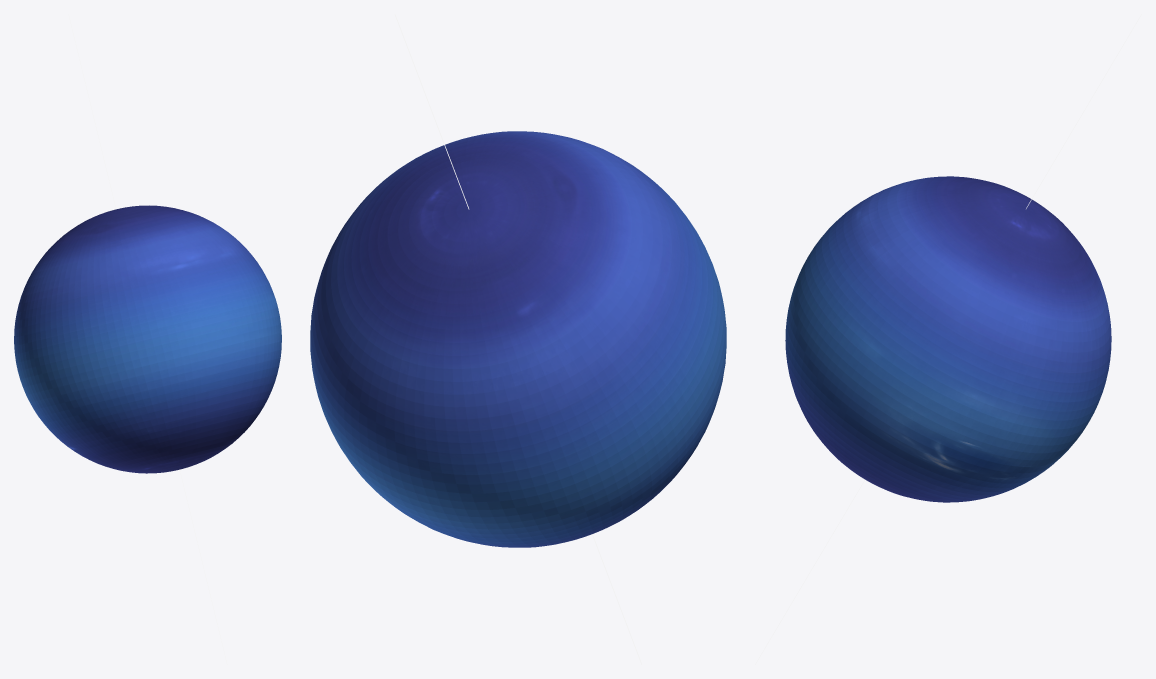
Rendered from neptune.glb.
3 views of the same model, side by side, from view 1: azimuth 30°, elevation 25°; view 2: azimuth 150°, elevation 25°; view 3: azimuth 270°, elevation 25° (orthographic). The views are drawn at different scales.
Visible parts, largest first — view 1: Sphere, Axis_Rod; view 2: Sphere; view 3: Sphere.
Part boxes in pixels (x1,y1,x2,y2): Sphere: [14, 205, 281, 473]; Axis_Rod: [68, 14, 227, 664]; Sphere: [310, 131, 726, 547]; Sphere: [785, 176, 1111, 502].
Size of the model in its own units: 2 by 4.4 by 2.37.
2 materials, 1 textured.
